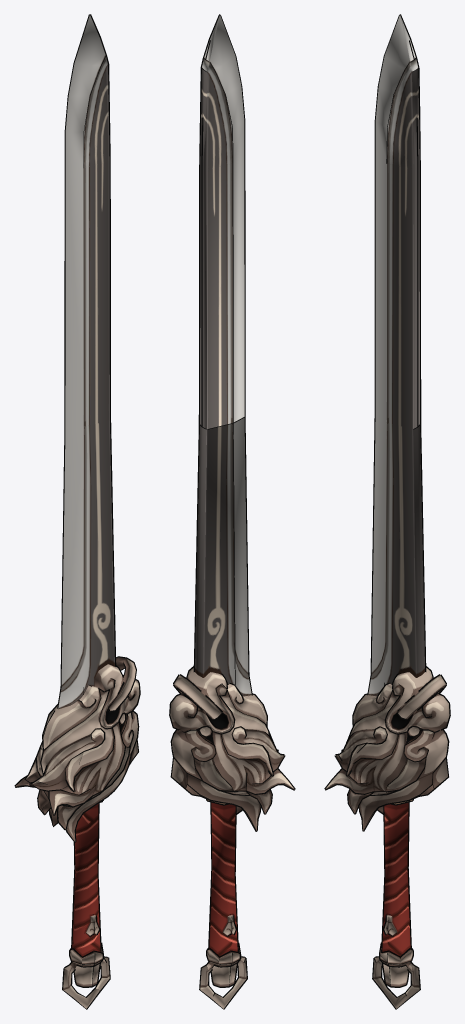
The model's file is Lions_roar_mesh.glb.
The picture shows the model from 3 angles, left to right: view 1: azimuth 30°, elevation 25°; view 2: azimuth 210°, elevation 25°; view 3: azimuth 330°, elevation 25°; orthographic projection.
Parts seen in each view (by area): view 1: Lions Roar_mesh_Lion's Roar_0, Lions Roar_mesh_Outline_0; view 2: Lions Roar_mesh_Lion's Roar_0, Lions Roar_mesh_Outline_0; view 3: Lions Roar_mesh_Lion's Roar_0, Lions Roar_mesh_Outline_0.
Part boxes in pixels (bbox=[...]): Lions Roar_mesh_Lion's Roar_0: bbox=[15, 15, 139, 1008]; Lions Roar_mesh_Outline_0: bbox=[14, 14, 140, 1009]; Lions Roar_mesh_Lion's Roar_0: bbox=[170, 15, 294, 1008]; Lions Roar_mesh_Outline_0: bbox=[169, 14, 295, 1009]; Lions Roar_mesh_Lion's Roar_0: bbox=[325, 15, 449, 1008]; Lions Roar_mesh_Outline_0: bbox=[324, 14, 450, 1009].
Size of the model in its own units: 1.6 by 13.64 by 0.9854.
2 materials, 1 textured.
